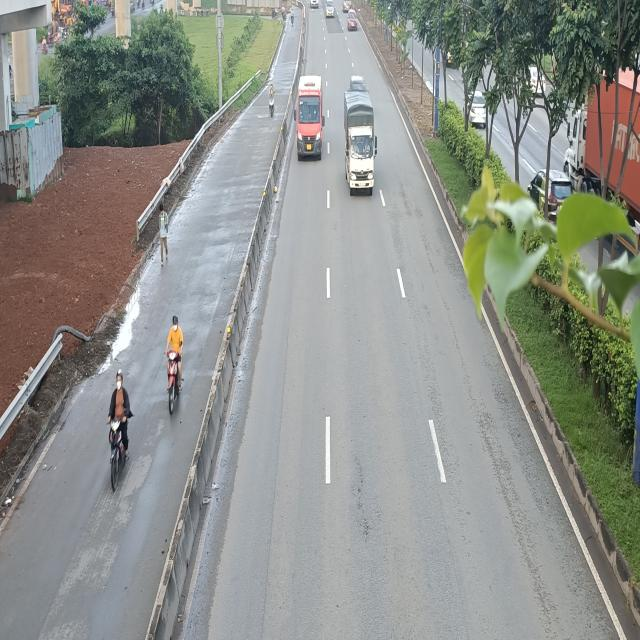truck: (343, 92, 378, 198)
van: (293, 73, 325, 158)
